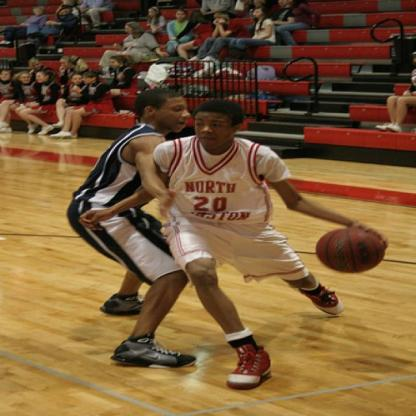basketball: (313, 225, 385, 272)
